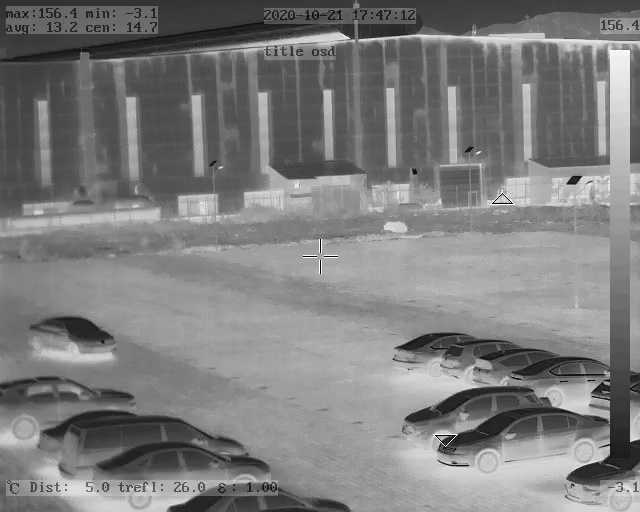vehicle: (99, 445, 277, 509), (40, 415, 249, 469), (448, 409, 611, 469), (6, 373, 139, 439), (408, 385, 526, 439), (507, 355, 612, 405), (162, 485, 351, 512), (563, 442, 639, 509), (22, 310, 116, 360), (391, 326, 470, 371), (472, 343, 534, 381), (444, 336, 499, 376)
